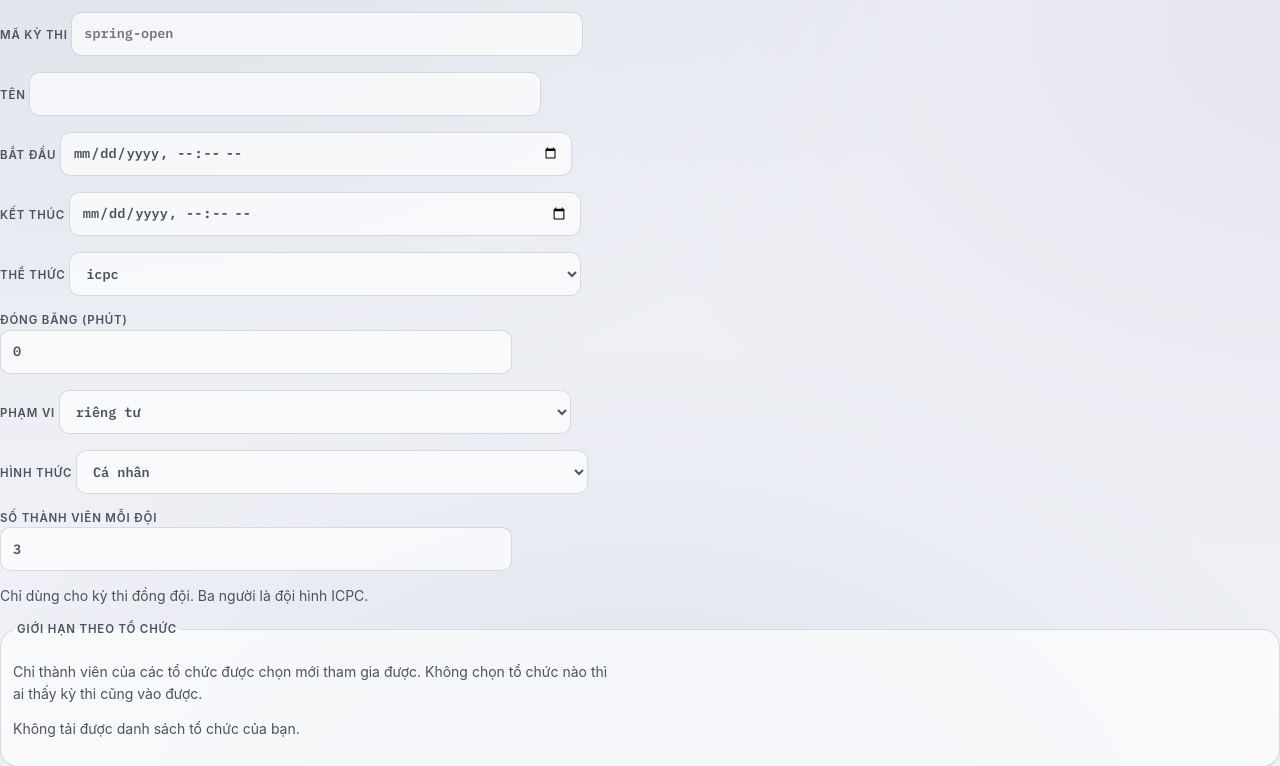
Scenario: ContestNewPage › refuses non-numeric points before bothering the API
In the field labelled "Mã kỳ thi": (327, 34) [71,12,583,56], type "spring"
In the field labelled "Tên": (285, 94) [29,72,541,116], type "Spring Open"
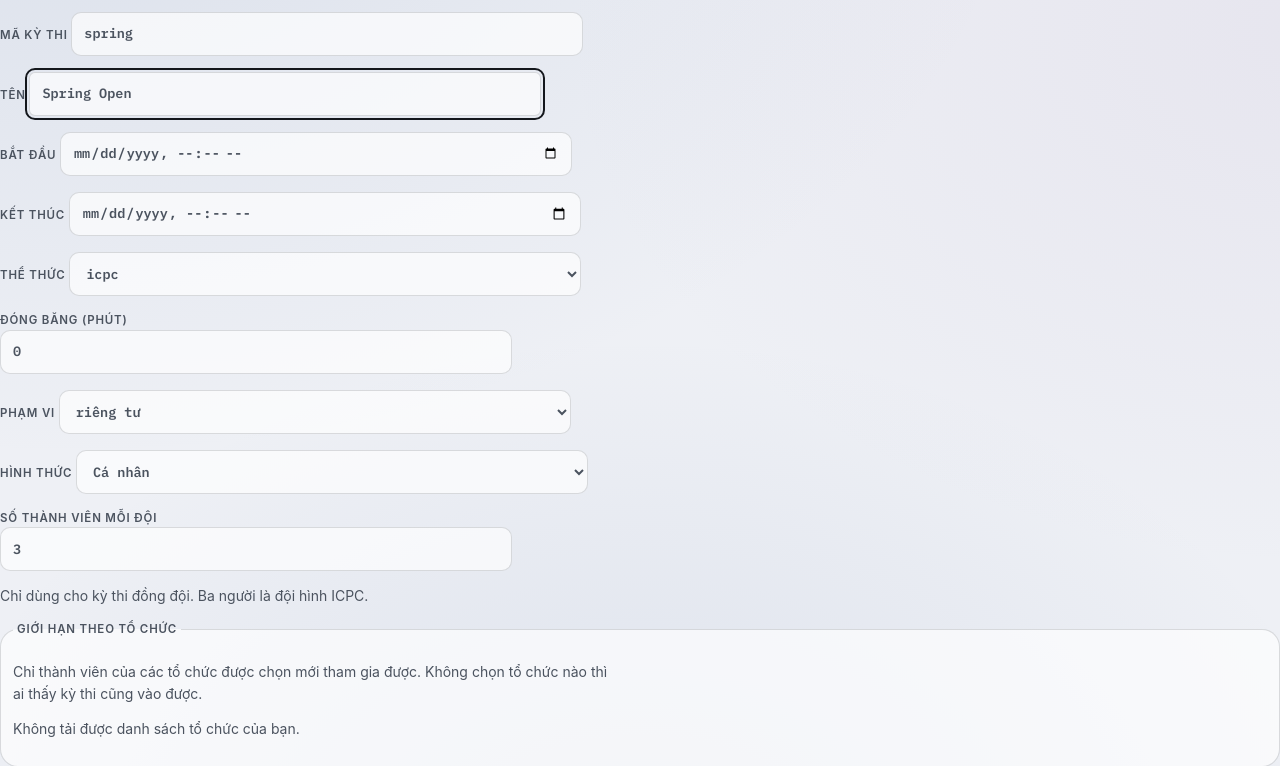
In the field labelled "Bắt đầu": (316, 154) [60,132,572,176], type "2026-09-01T09:00"
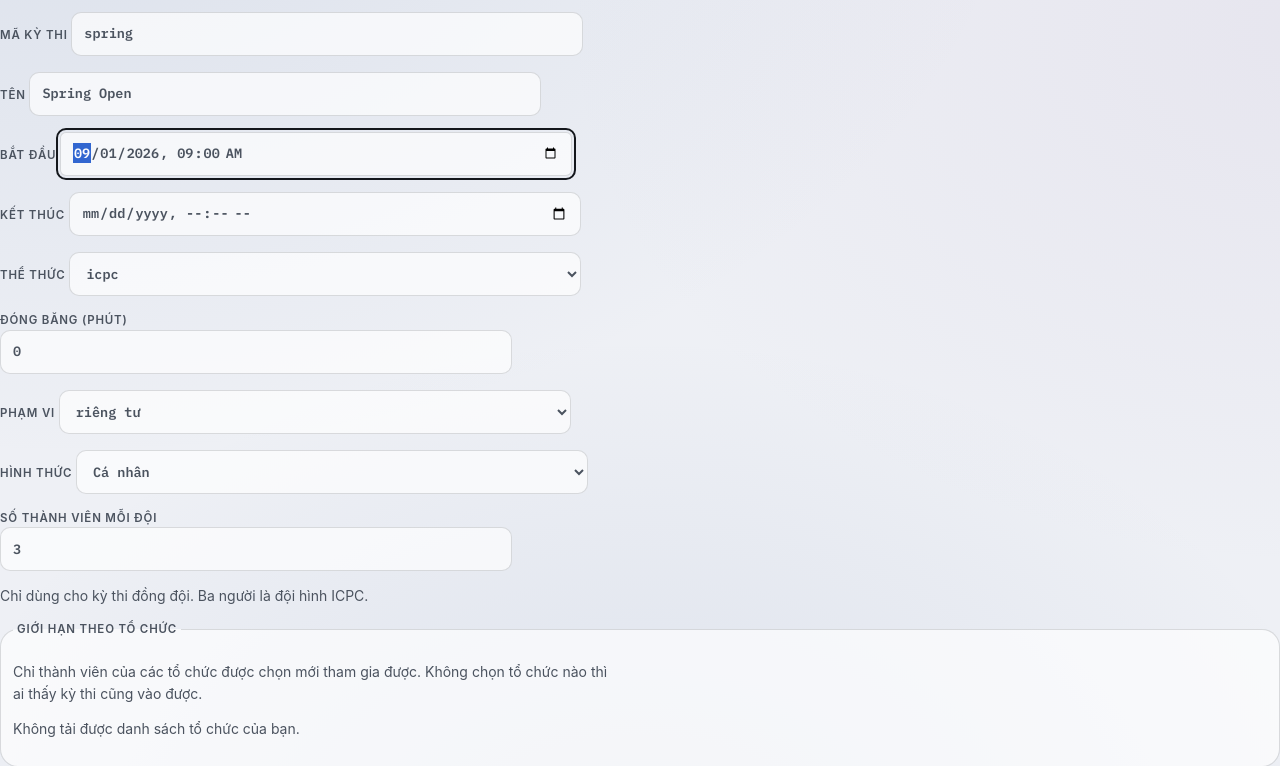
In the field labelled "Kết thúc": (325, 214) [69,192,581,236], type "2026-09-01T14:00"
(page scrolled)
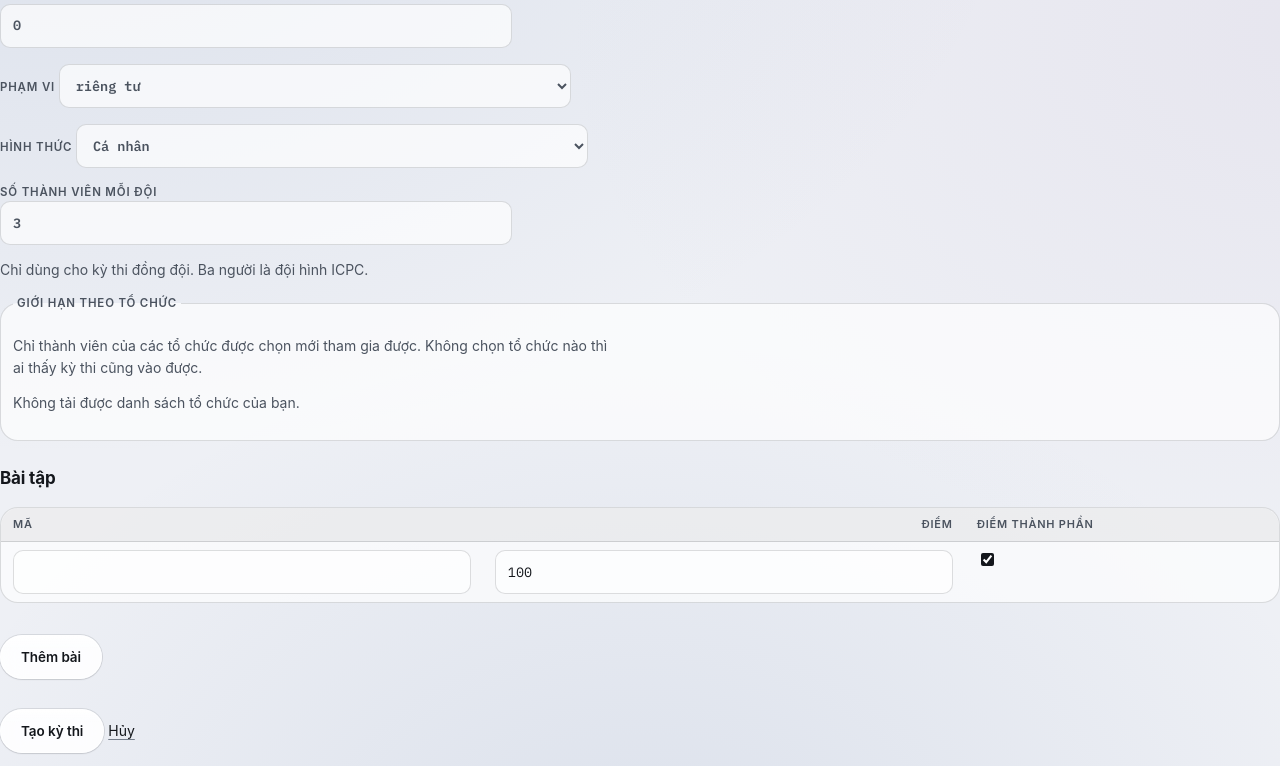
In the field named "Mã bài 1": (242, 572) [13,550,471,594], type "aplusb"
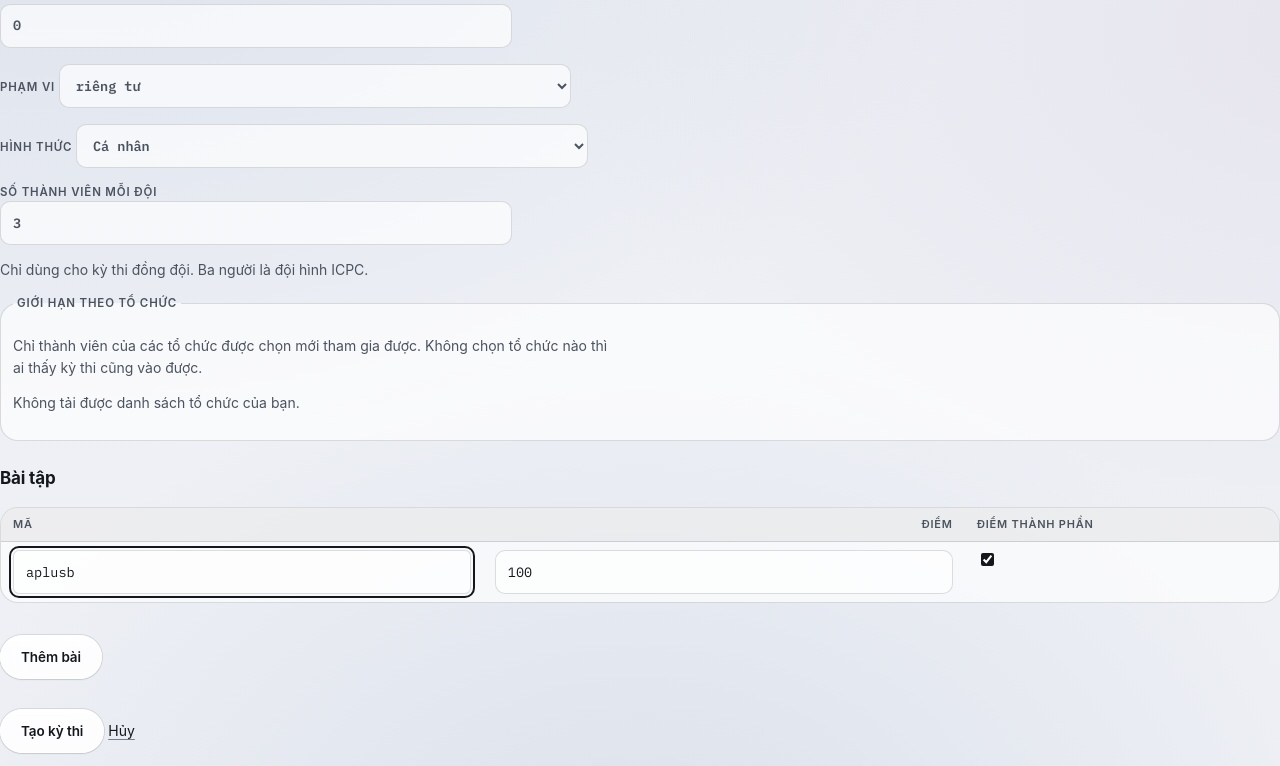
Replace the text in the field named "Điểm bài 1" with "lots": (724, 572) [495,550,953,594]
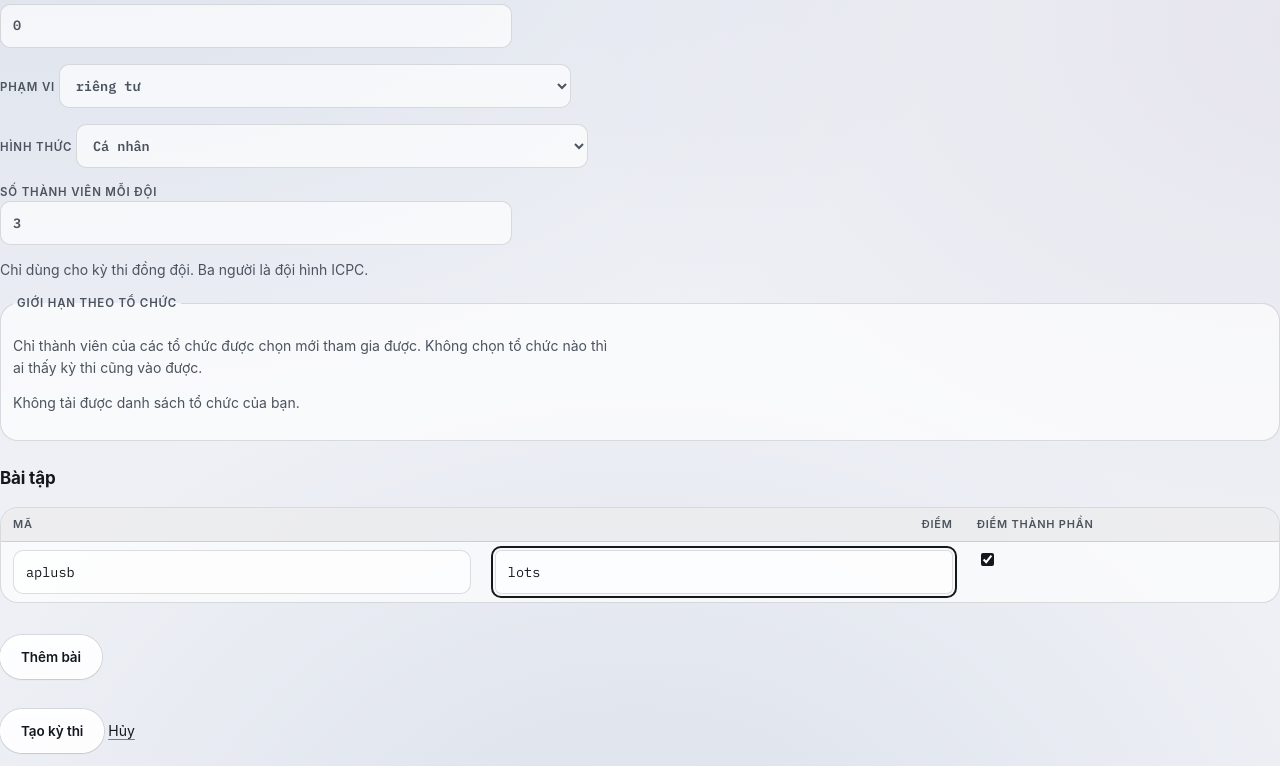
Click the button "Tạo kỳ thi": (52, 731) [0,709,104,753]
(page scrolled)
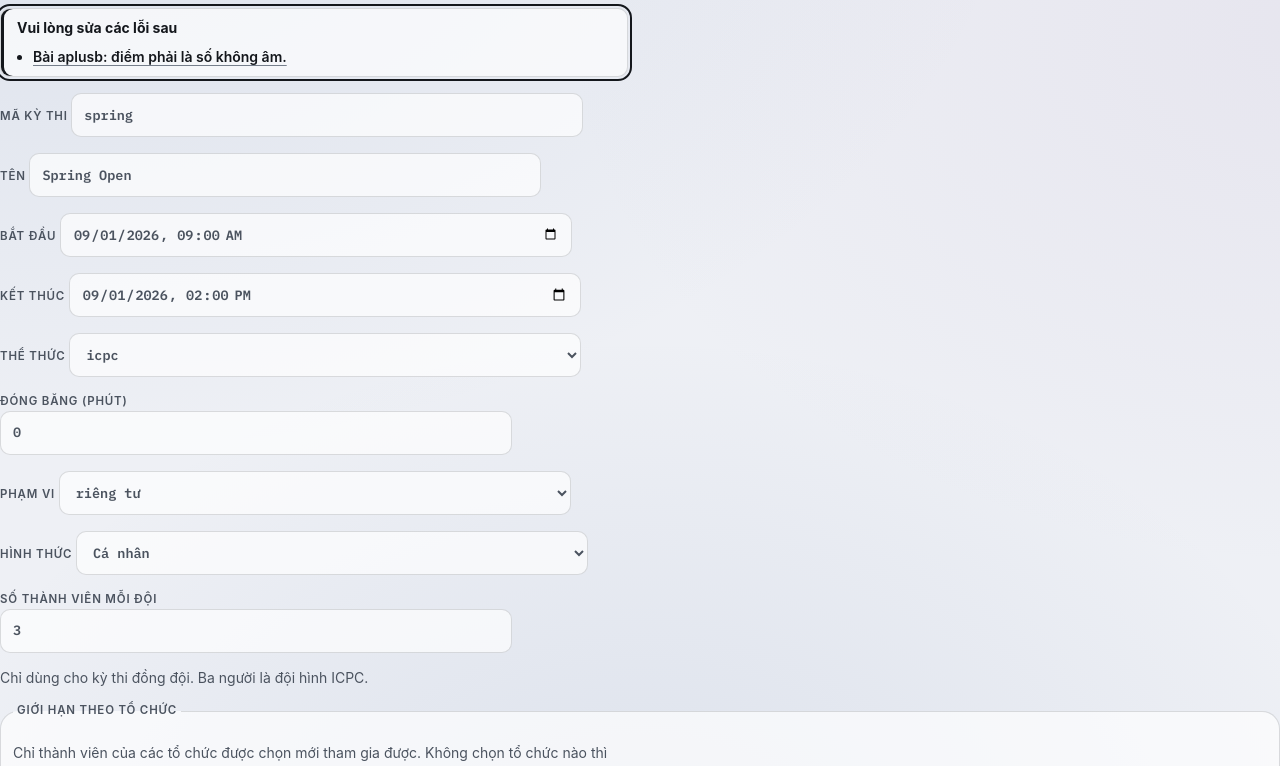
Expected: the message shows "điểm phải là số không âm", [33,48,287,65]
